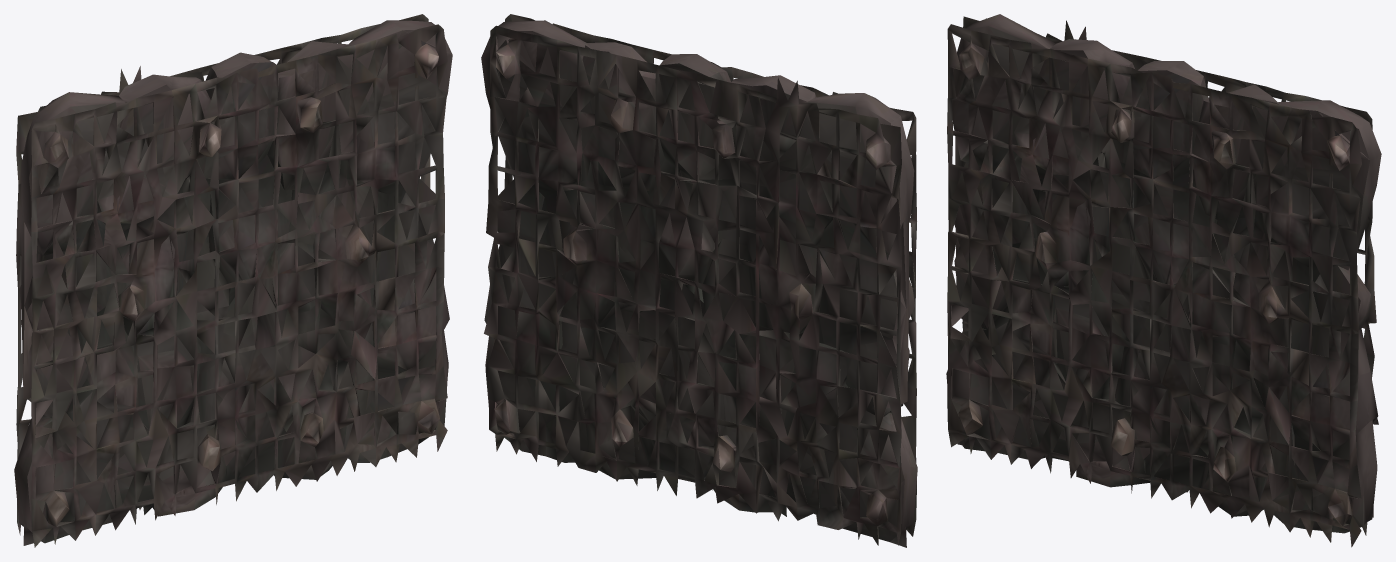
The model's file is prison_wall_mesh_idle.glb.
3 views of the same model, side by side, from view 1: azimuth 30°, elevation 25°; view 2: azimuth 150°, elevation 25°; view 3: azimuth 330°, elevation 25° (orthographic).
Visible parts, largest first — view 1: tripo_node_0f3b1a68-7e15-4fea-a401-029be5460633; view 2: tripo_node_0f3b1a68-7e15-4fea-a401-029be5460633; view 3: tripo_node_0f3b1a68-7e15-4fea-a401-029be5460633.
Part boxes in pixels (x1=…): tripo_node_0f3b1a68-7e15-4fea-a401-029be5460633: x1=14, y1=14, x2=452, y2=547; tripo_node_0f3b1a68-7e15-4fea-a401-029be5460633: x1=481, y1=14, x2=917, y2=547; tripo_node_0f3b1a68-7e15-4fea-a401-029be5460633: x1=946, y1=14, x2=1381, y2=547.
Bounding box in the file's own units: 1 × 1 × 0.0991.
Materials: 1 (1 with a texture image).
